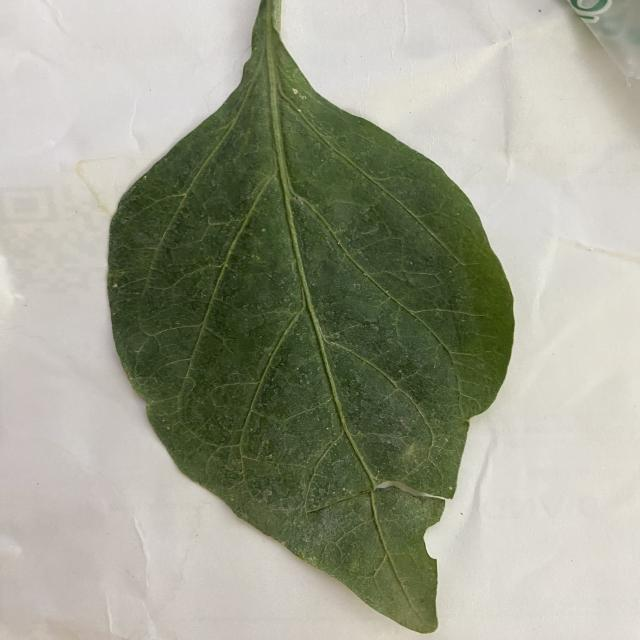Leaf: (104, 64, 515, 634)
